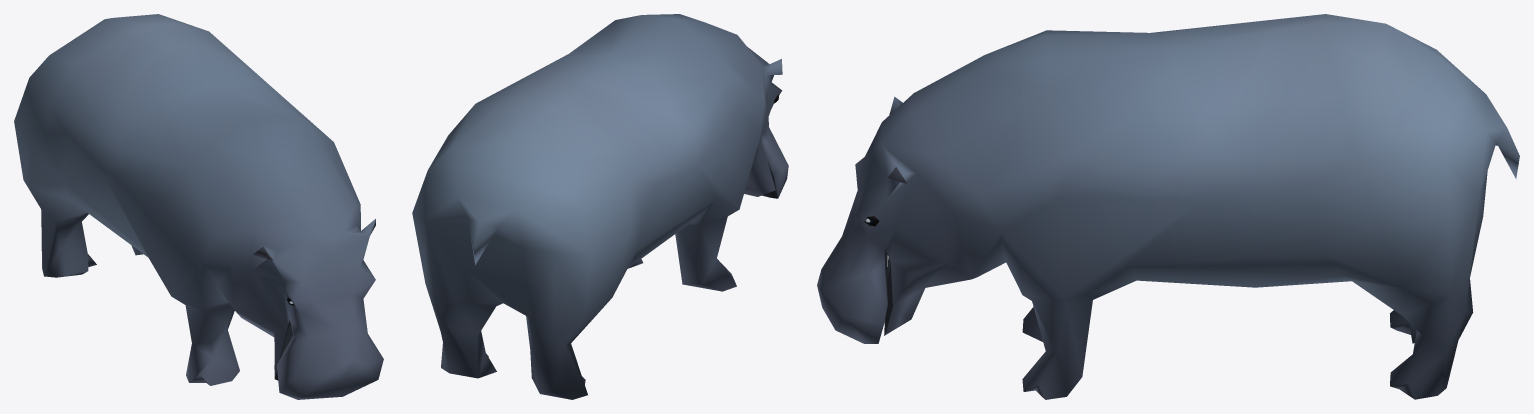
Rendered from Hippo.glb.
3 views of the same model, side by side, from view 1: azimuth 30°, elevation 25°; view 2: azimuth 150°, elevation 25°; view 3: azimuth 270°, elevation 25° (orthographic). The views are drawn at different scales.
Parts seen in each view (by area): view 1: Hippo; view 2: Hippo; view 3: Hippo.
Boxes of the visible parts, x1,y1,x2,y2 form: Hippo: (14,14,383,399); Hippo: (412,14,788,399); Hippo: (817,14,1519,399).
Size of what is drawn, in the model's own units: 1 by 1.27 by 2.44.
Materials: 1 (1 with a texture image).
